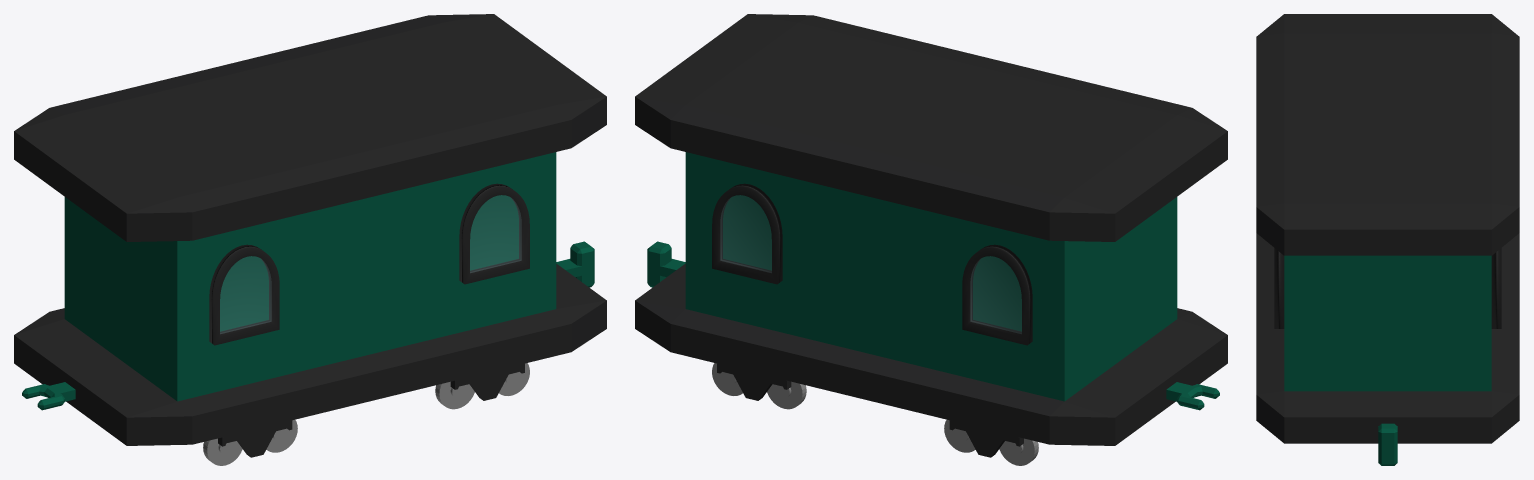
Rendered from Cart.fbx.
The picture shows the model from 3 angles, left to right: view 1: azimuth 30°, elevation 25°; view 2: azimuth 150°, elevation 25°; view 3: azimuth 270°, elevation 25°; orthographic projection. The views are drawn at different scales.
Parts seen in each view (by area): view 1: Cart; view 2: Cart; view 3: Cart.
Boxes of the visible parts, box(x1,y1,x2,y2) form: Cart: box(14, 14, 606, 465); Cart: box(635, 14, 1227, 465); Cart: box(1256, 14, 1519, 465).
Size of the model in its own units: 17.77 by 8.42 by 7.84.
